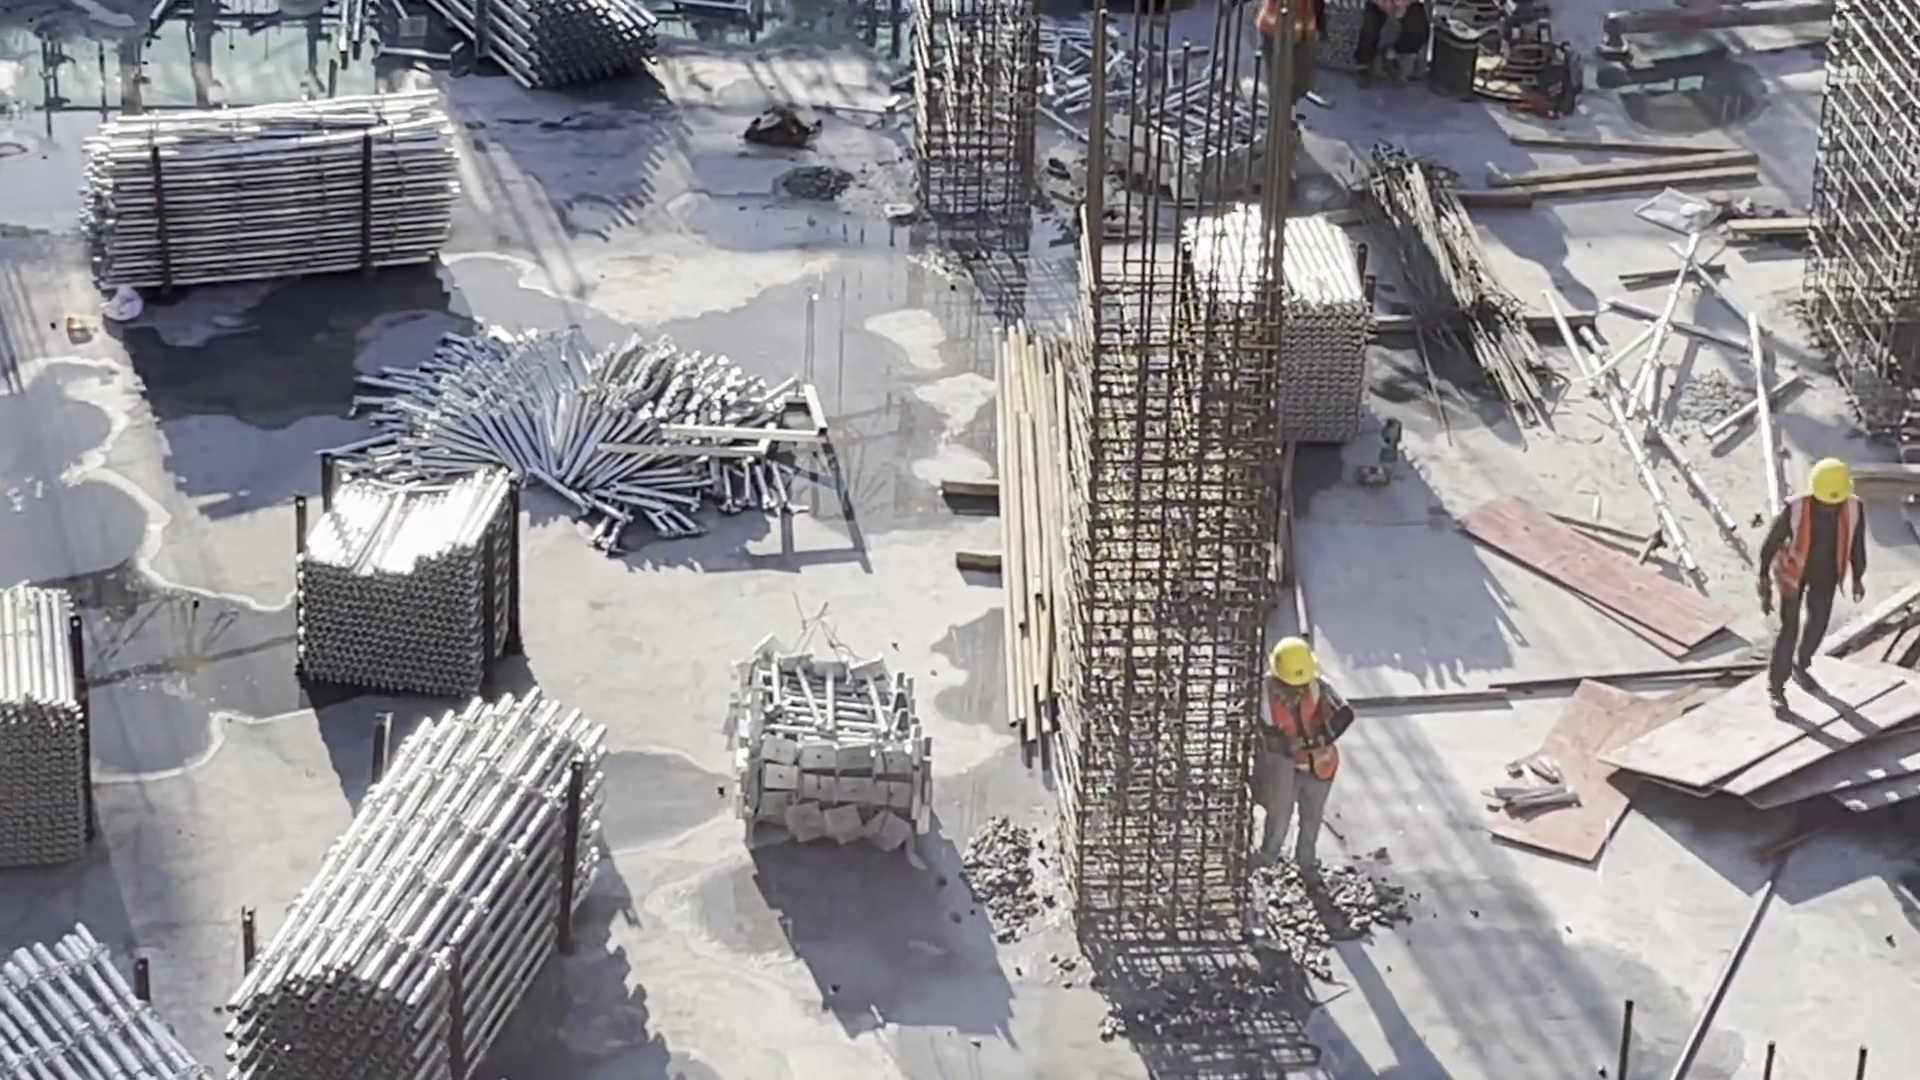board: (1634, 657, 1920, 814)
helmet: (1274, 635, 1315, 689), (1806, 456, 1852, 504)
person: (1758, 452, 1873, 719), (1256, 628, 1354, 889), (1254, 1, 1328, 126)
scaffold: (234, 705, 618, 1079), (348, 289, 805, 535), (72, 95, 459, 289), (277, 456, 533, 684), (707, 631, 939, 857), (1177, 214, 1392, 455), (1048, 17, 1281, 194), (1, 894, 223, 1076), (1, 538, 94, 880), (436, 1, 659, 81)
vest: (1763, 503, 1879, 603), (1266, 686, 1355, 778), (1252, 1, 1329, 45)
